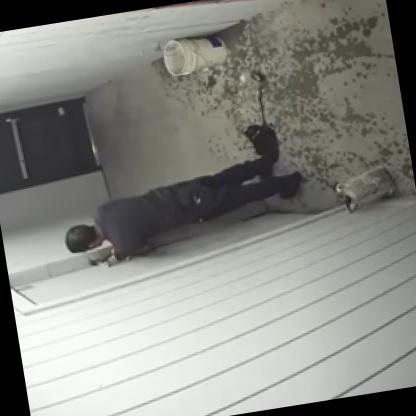Human Body: (48, 135, 315, 274)
